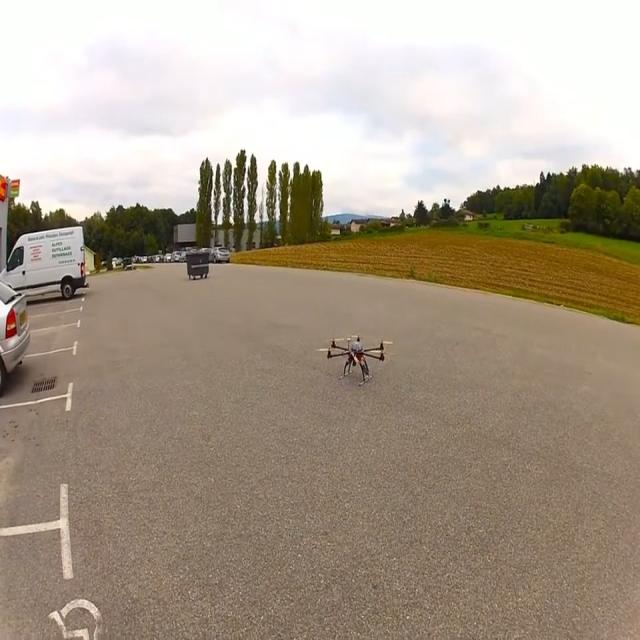drone: (316, 334, 392, 386)
